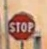stop: (6, 9, 35, 40)
